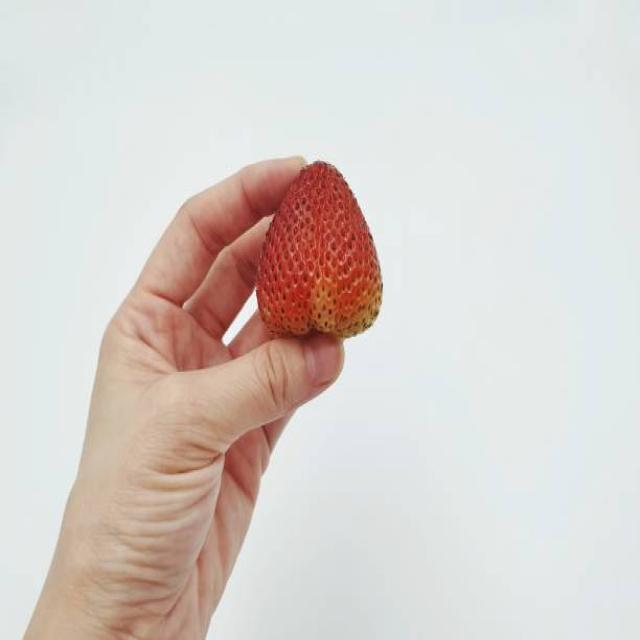Healthy Fruit: (256, 159, 384, 339)
